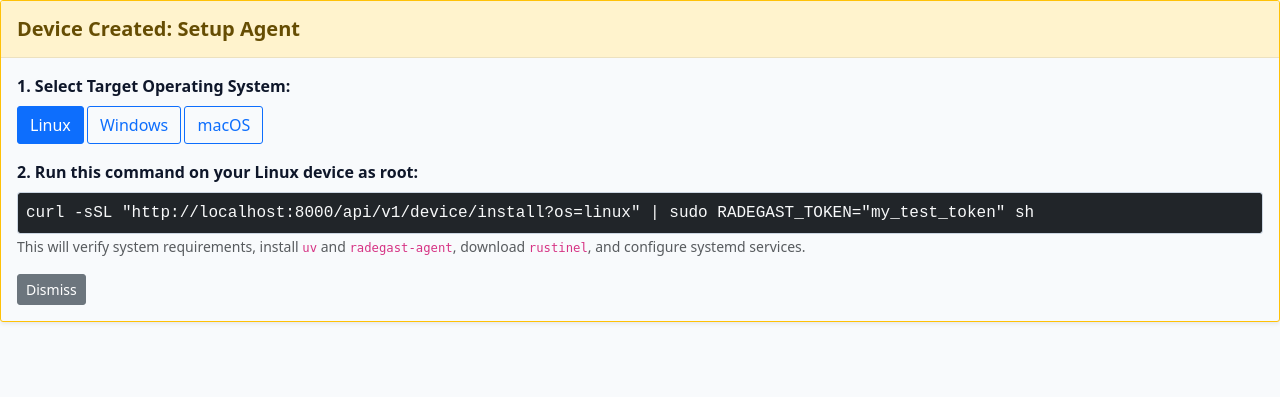
Test: AgentSetupInstructions Component › toggles OS setup commands correctly
Expected: the text "curl -sSL \"http://localhost:8000/api/v1/device/install?os=linux\"" is shown, [26, 204, 1034, 222]
# Click Windows
Step 1. Click the button "Windows" → (134, 125), box [87, 106, 181, 144]
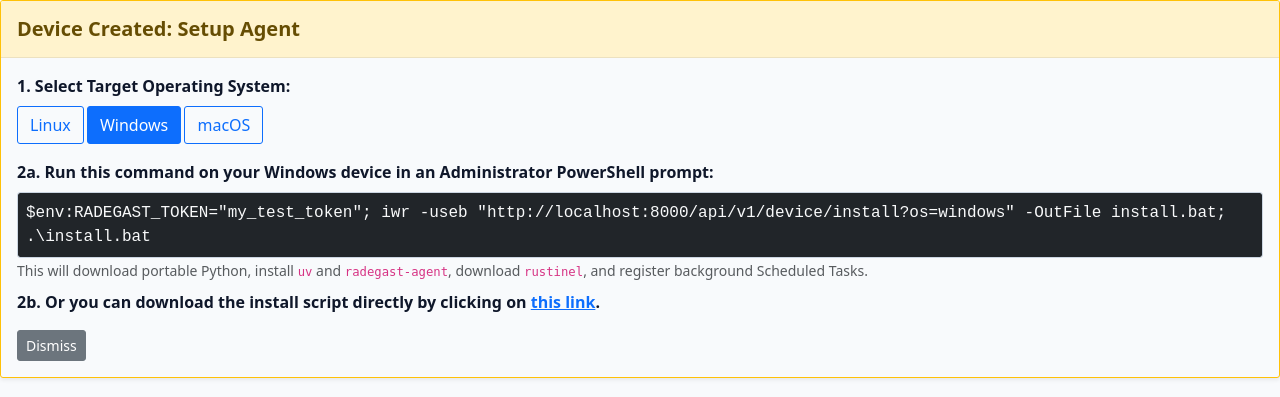
Expected: the text "install.bat" is shown, [26, 204, 1226, 246]
Expected: the text "curl -sSL" is gone
# Click macOS
Step 2. Click the button "macOS" → (224, 125), box [184, 106, 263, 144]
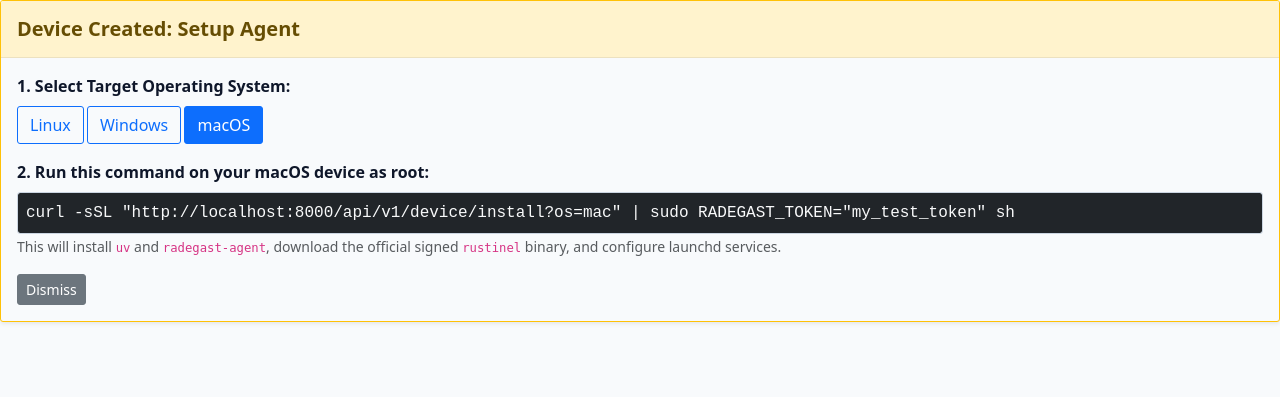
Expected: the text "RADEGAST_TOKEN=\"my_test_token\"" is shown, [26, 204, 1015, 222]
